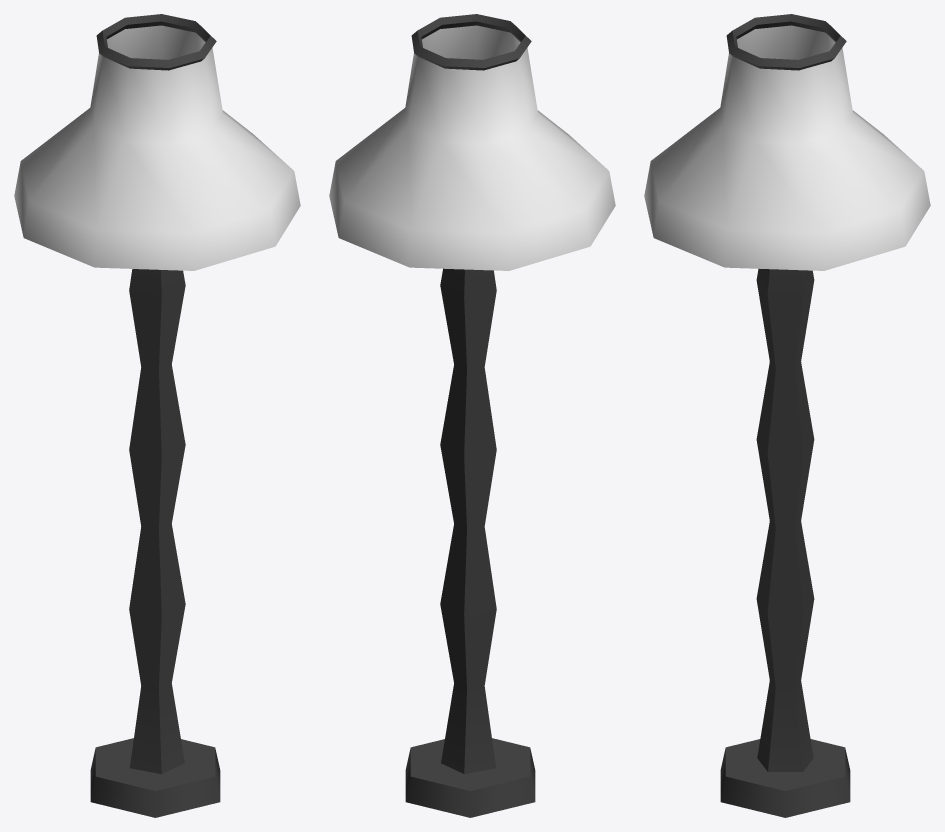
The model's file is lamp_023.glb.
3 views of the same model, side by side, from view 1: azimuth 30°, elevation 25°; view 2: azimuth 150°, elevation 25°; view 3: azimuth 270°, elevation 25° (orthographic).
Parts seen in each view (by area): view 1: lamp_023; view 2: lamp_023; view 3: lamp_023.
Boxes of the visible parts, x1,y1,x2,y2 form: lamp_023: (14,14,300,817); lamp_023: (329,14,615,817); lamp_023: (644,14,930,817).
Size of the model in its own units: 0.6242 by 1.8 by 0.625.
1 material, 1 textured.
